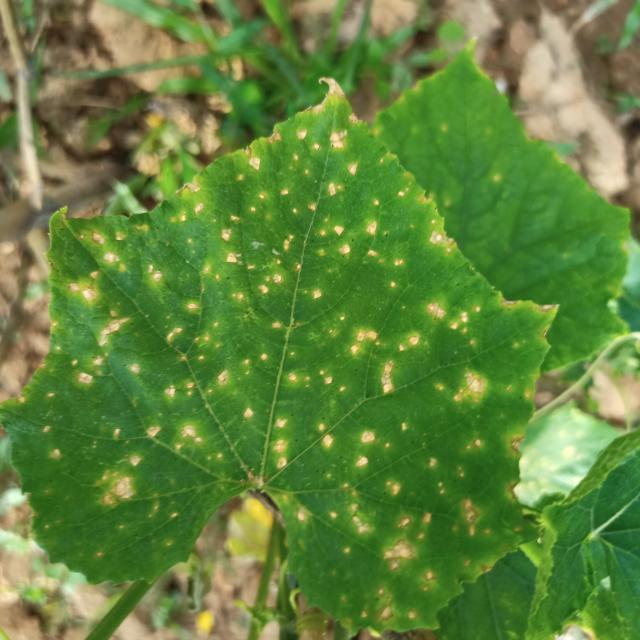disease_cucumber: (165, 122, 492, 408), (44, 250, 320, 528), (282, 329, 522, 621)
